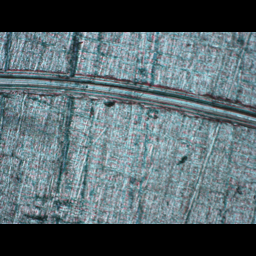d: (0, 66, 255, 132)
